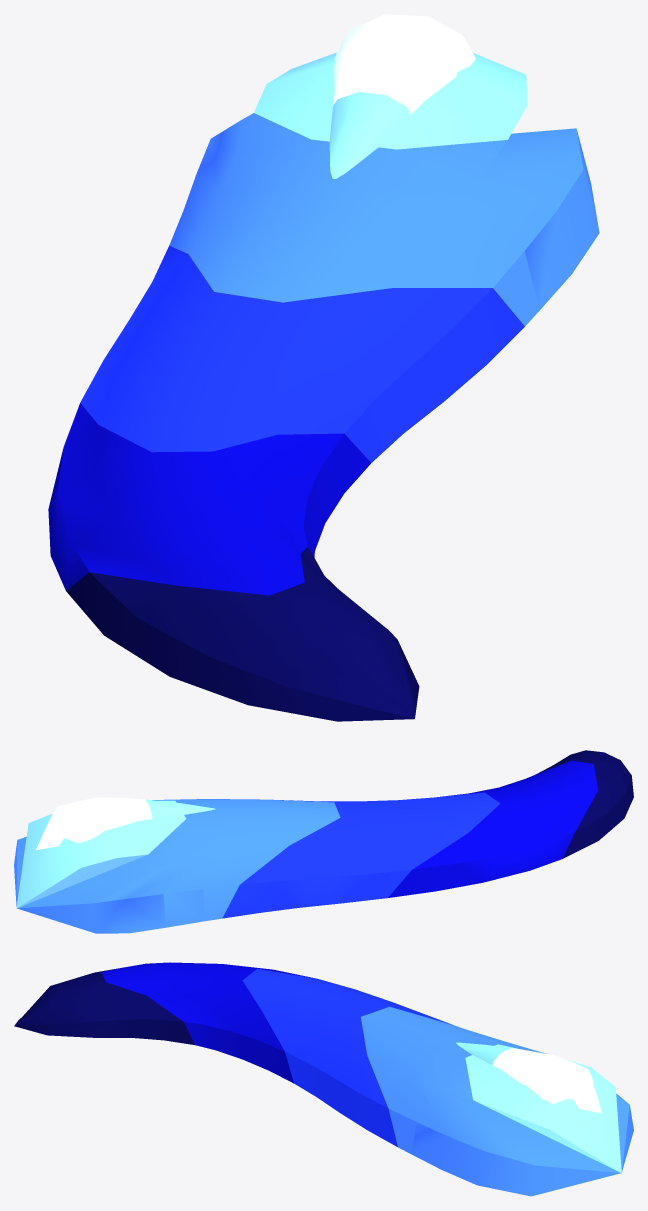
The model's file is shot_sidekick_wobbley_233.glb.
3 renders of one model, top to bottom at view 1: azimuth 30°, elevation 25°; view 2: azimuth 150°, elevation 25°; view 3: azimuth 270°, elevation 25°, orthographic. The views are drawn at different scales.
Visible parts, largest first — view 1: shot_sidekick_wobbley_233_bolt, shot_sidekick_wobbley_233_core; view 2: shot_sidekick_wobbley_233_bolt, shot_sidekick_wobbley_233_core; view 3: shot_sidekick_wobbley_233_bolt, shot_sidekick_wobbley_233_core.
Boxes of the visible parts, left/top/right/bottom form: shot_sidekick_wobbley_233_bolt: left=48, top=52, right=599, bottom=721; shot_sidekick_wobbley_233_core: left=329, top=14, right=475, bottom=178; shot_sidekick_wobbley_233_bolt: left=14, top=750, right=633, bottom=933; shot_sidekick_wobbley_233_core: left=36, top=797, right=215, bottom=849; shot_sidekick_wobbley_233_bolt: left=14, top=962, right=633, bottom=1196; shot_sidekick_wobbley_233_core: left=456, top=1042, right=601, bottom=1113.
Bounding box in the file's own units: 8.11 × 1.69 × 10.25.
